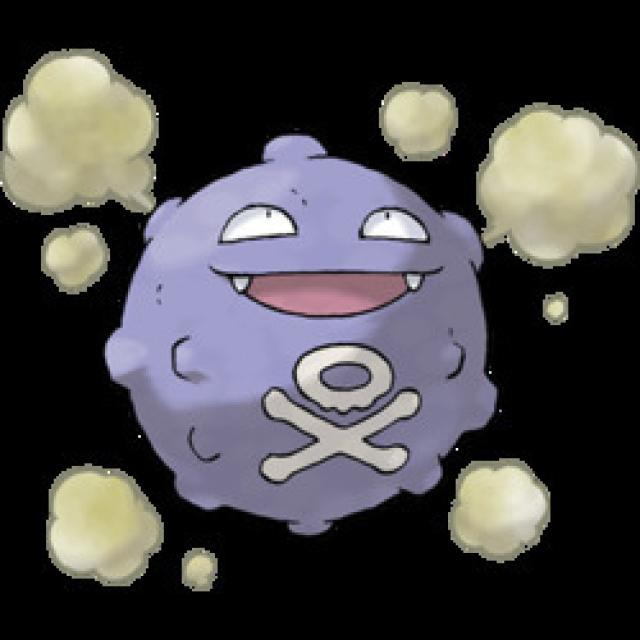Koffing: (130, 135, 479, 512)
